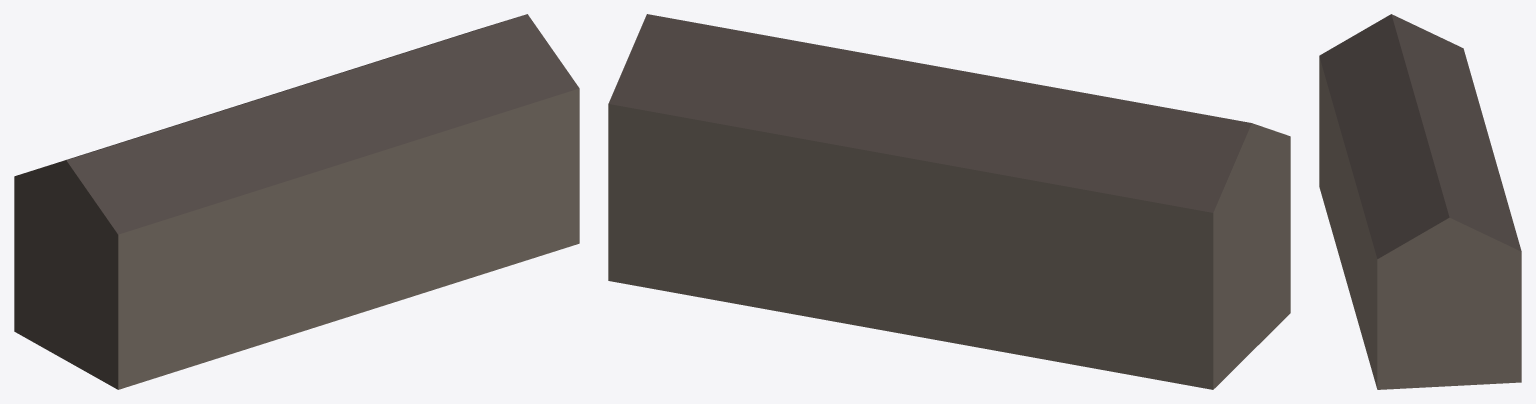
The picture shows the model from 3 angles, left to right: view 1: azimuth 30°, elevation 25°; view 2: azimuth 150°, elevation 25°; view 3: azimuth 270°, elevation 25°; orthographic projection. The views are drawn at different scales.
Parts seen in each view (by area): view 1: HP-w369342471; view 2: HP-w369342471; view 3: HP-w369342471.
Boxes of the visible parts, bbox=[...] form: HP-w369342471: bbox=[14, 14, 579, 389]; HP-w369342471: bbox=[608, 14, 1290, 389]; HP-w369342471: bbox=[1319, 14, 1521, 389].
Size of the model in its own units: 31.19 by 11.62 by 12.65.
